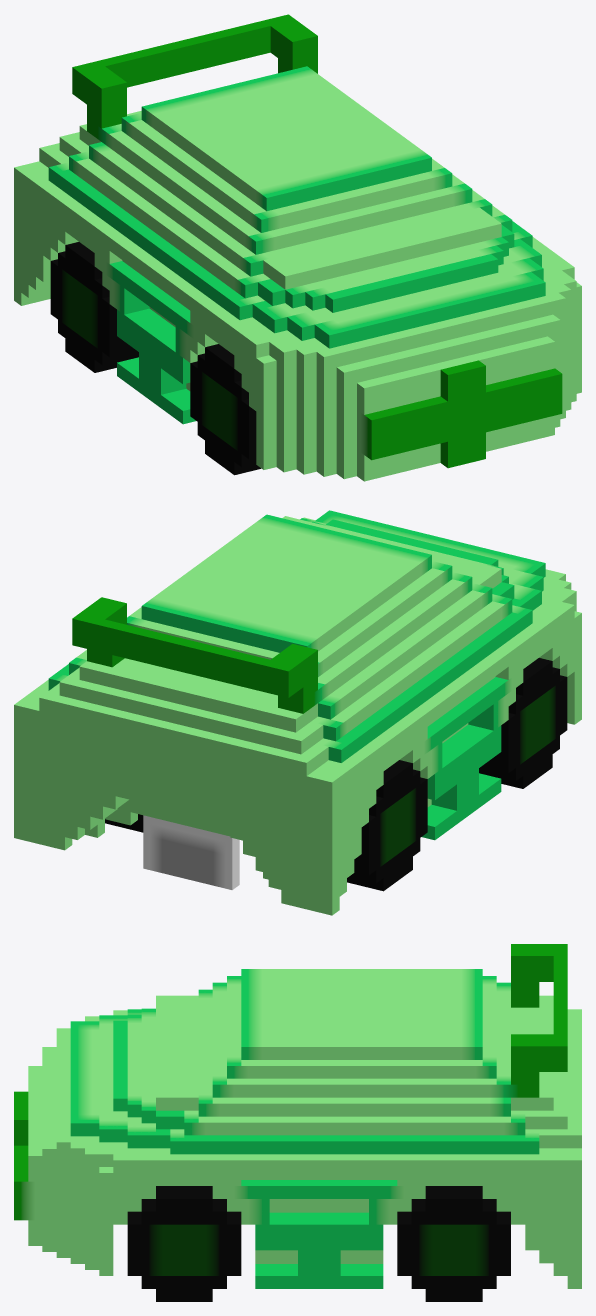
Rendered from Car_46.fbx.
The picture shows the model from 3 angles, top to bottom: view 1: azimuth 30°, elevation 25°; view 2: azimuth 150°, elevation 25°; view 3: azimuth 270°, elevation 25°; orthographic projection. The views are drawn at different scales.
Parts seen in each view (by area): view 1: Car_46; view 2: Car_46; view 3: Car_46.
Boxes of the visible parts, x1=… form: Car_46: x1=14, y1=14, x2=581, y2=481; Car_46: x1=14, y1=510, x2=581, y2=915; Car_46: x1=14, y1=944, x2=581, y2=1301.
Bounding box in the file's own units: 25 × 18 × 40.
Materials: 1 (1 with a texture image).
